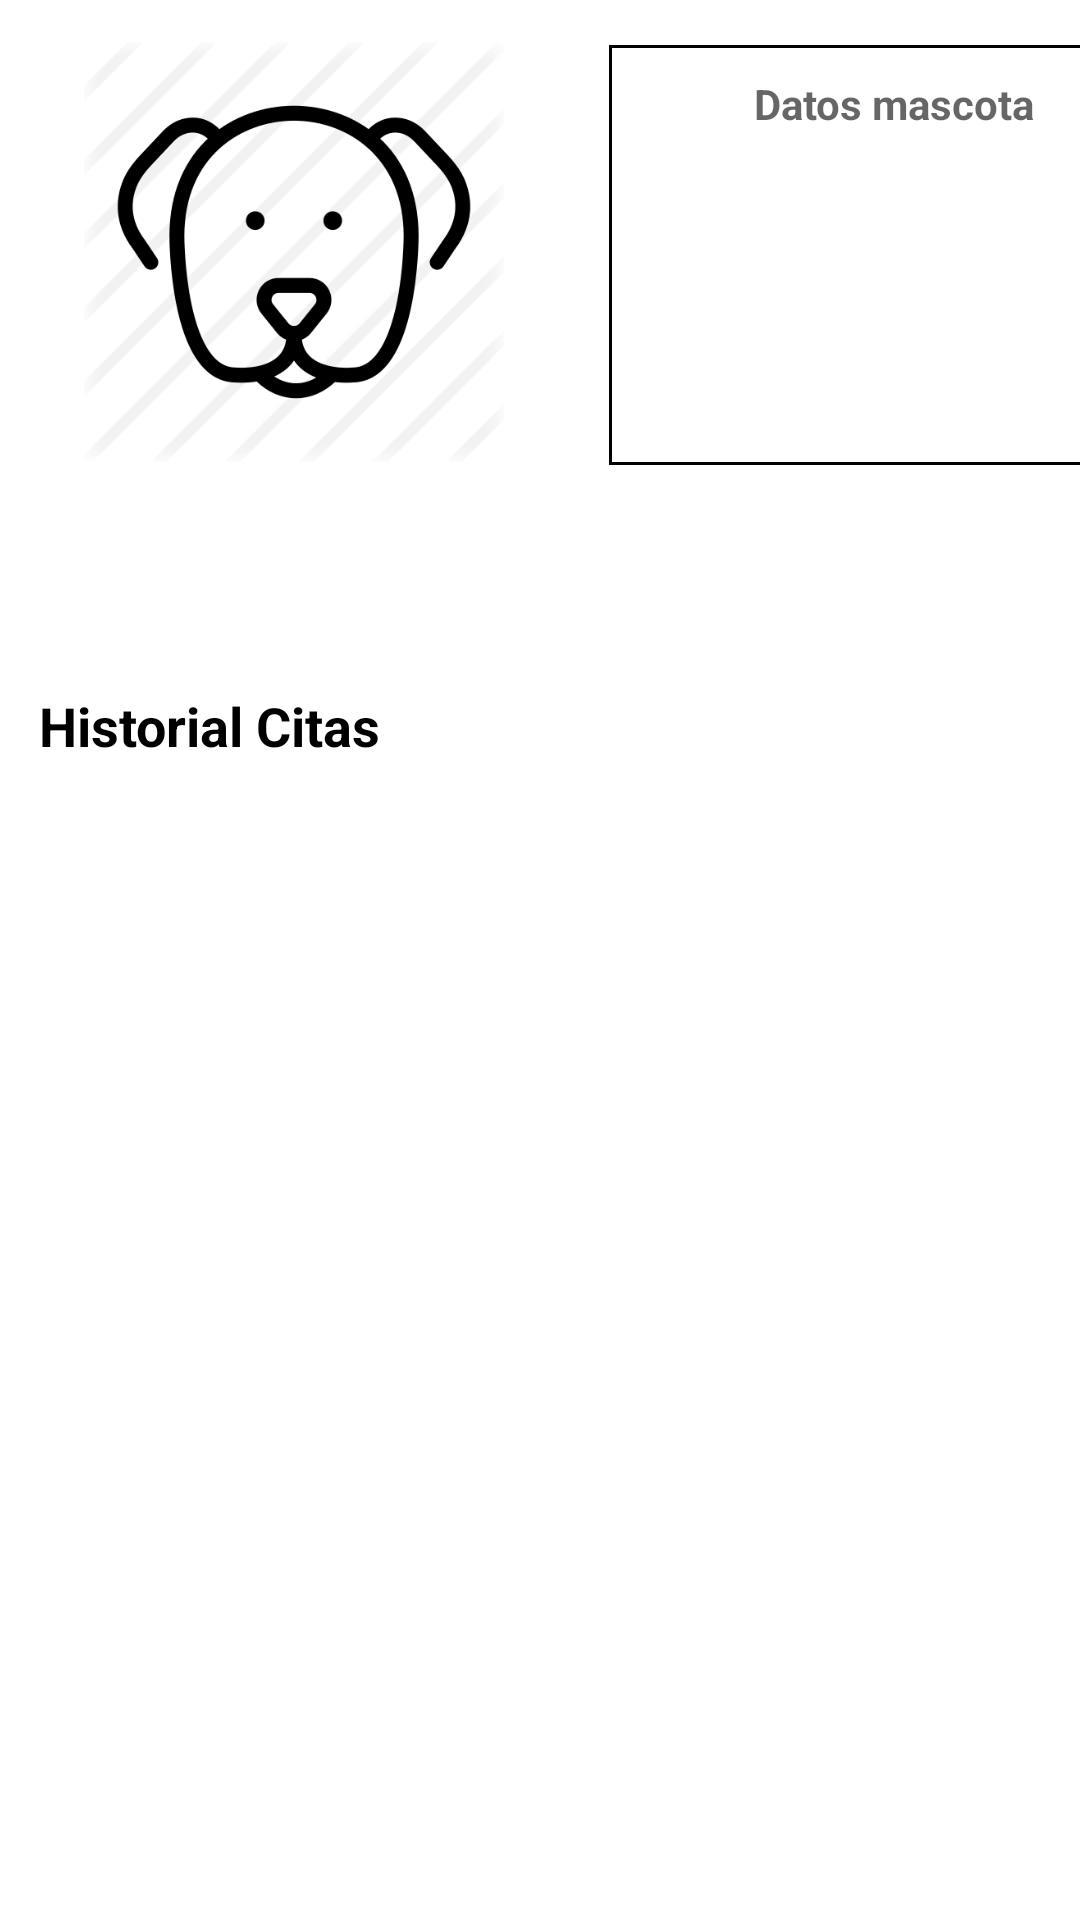

Icons on this 1080w x 1920h Android screen, each with its box as Rect(x1, y1, x2, y2):
animalvacio: Rect(117, 105, 471, 399)
